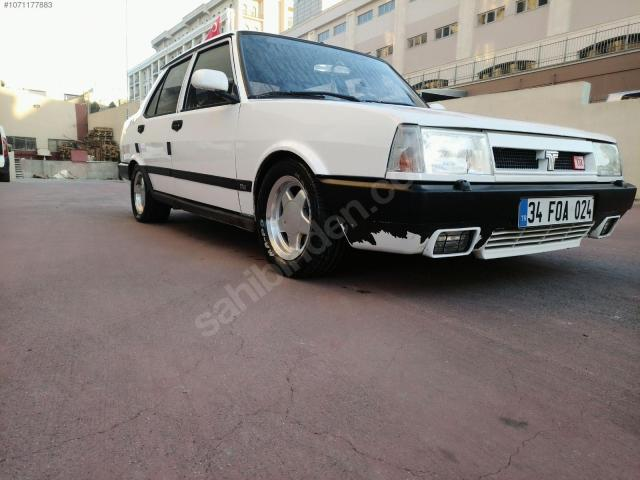plaka: (518, 196, 594, 227)
